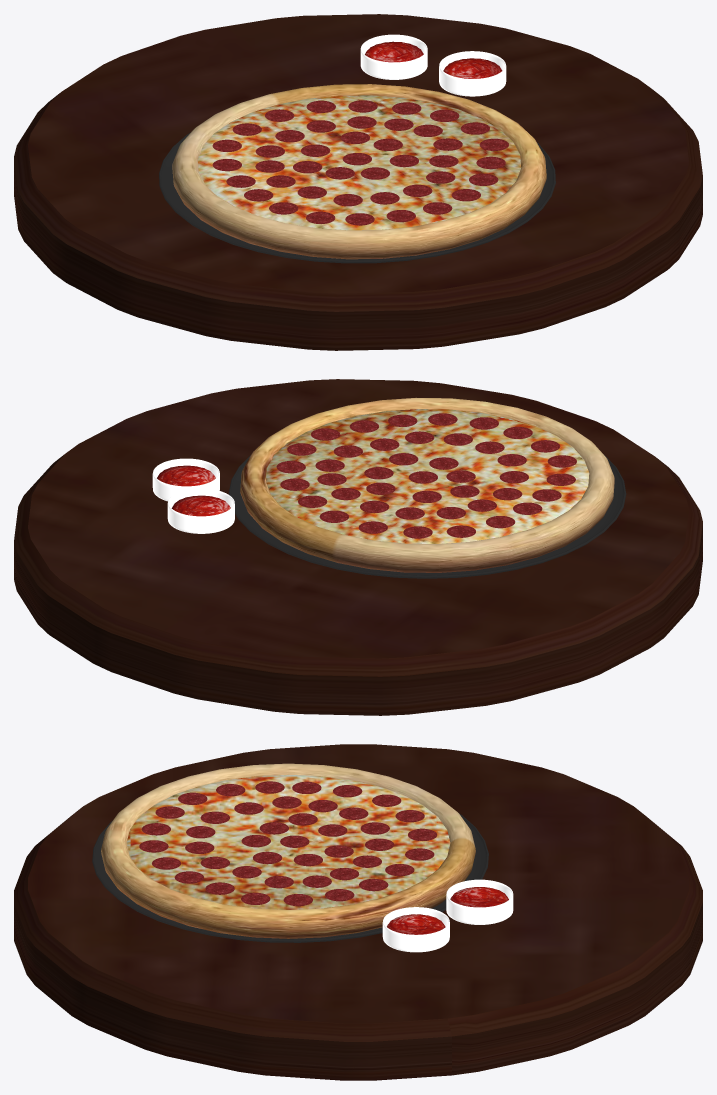
Rendered from 1772553656_pepperoni_pizza.glb.
The picture shows the model from 3 angles, top to bottom: view 1: azimuth 30°, elevation 25°; view 2: azimuth 150°, elevation 25°; view 3: azimuth 270°, elevation 25°; orthographic projection.
Parts seen in each view (by area): view 1: polySurface139, polySurface144, polySurface140, polySurface142; view 2: polySurface139, polySurface144, polySurface142, polySurface140; view 3: polySurface139, polySurface144, polySurface142, polySurface140.
Boxes of the visible parts, x1,y1,x2,y2 form: polySurface139: (14, 14, 702, 350); polySurface144: (159, 84, 555, 263); polySurface140: (439, 51, 506, 96); polySurface142: (360, 34, 427, 79); polySurface139: (14, 379, 702, 715); polySurface144: (228, 397, 626, 578); polySurface142: (167, 488, 234, 533); polySurface140: (152, 458, 219, 501); polySurface139: (14, 744, 702, 1080); polySurface144: (92, 763, 488, 942); polySurface142: (446, 879, 513, 924); polySurface140: (382, 907, 449, 952).
Bounding box in the file's own units: 37.93 × 5.39 × 37.93.
8 materials, 5 textured.
